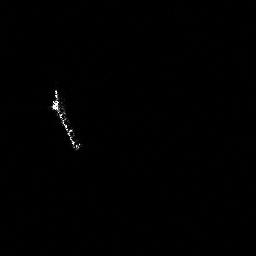ship: (47, 87, 83, 154)
